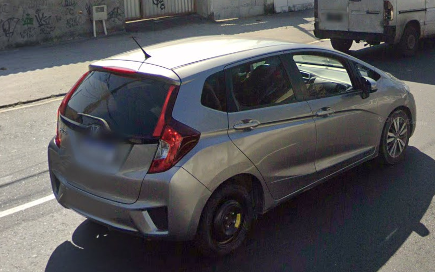car: (46, 40, 417, 254)
